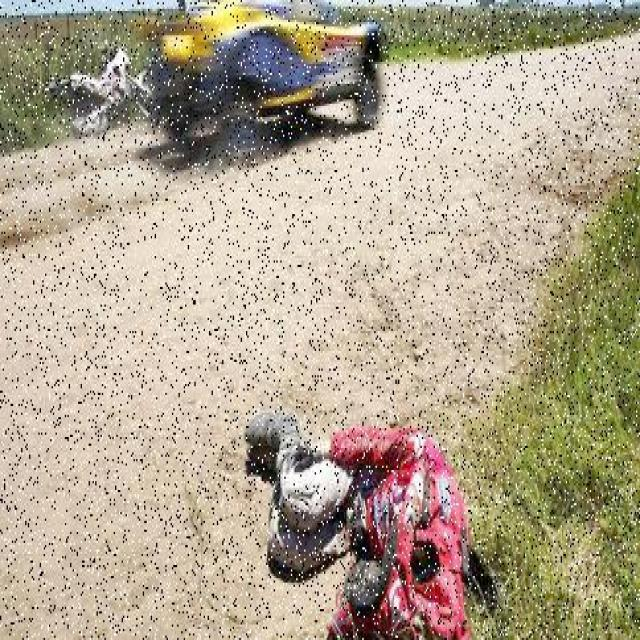fall: (251, 398, 467, 638)
